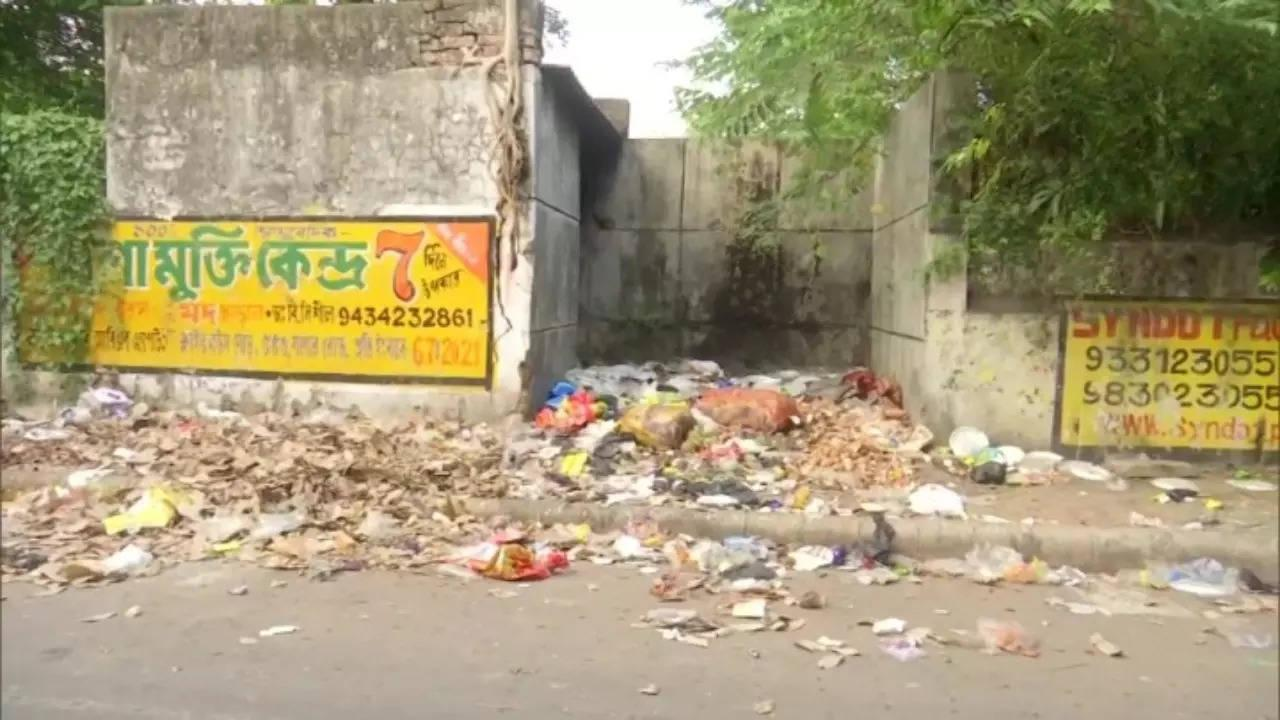trash: (4, 410, 450, 561), (464, 360, 930, 504)
